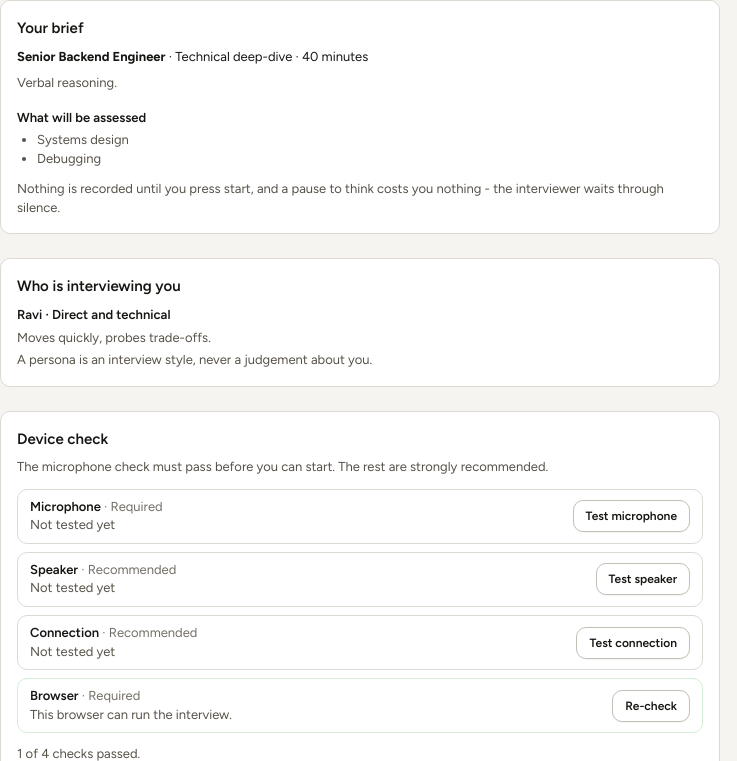
it: starting › a start refusal shows the server's own words and navigates nowhere
Click the button "Test microphone".
click(631, 516)  # box [573,500,690,532]
(page scrolled)
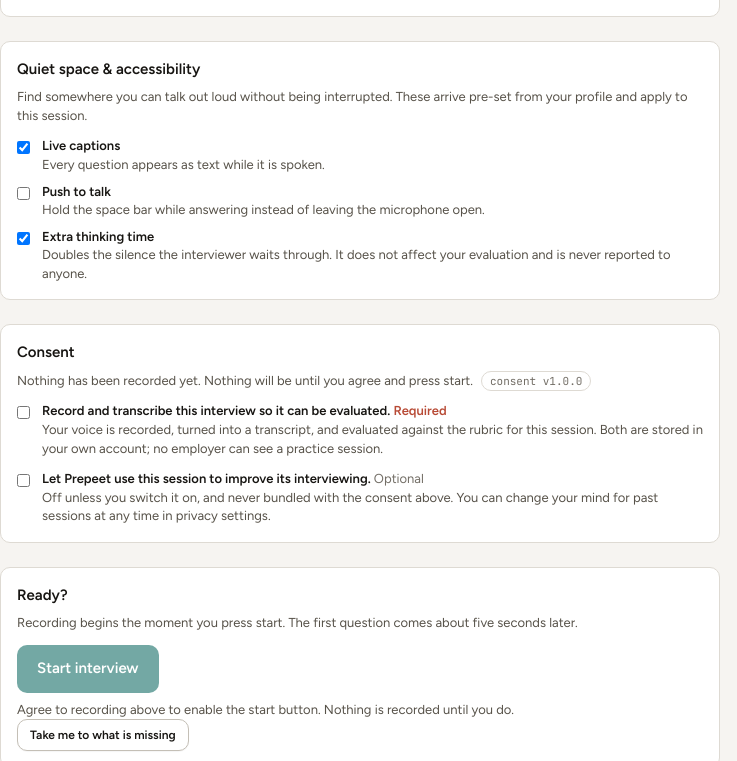
Expected: the text "Agree to recording above" is shown, [17,702,514,717]
Click the checkbox labelled "Record and transcribe".
click(24, 413)  # box [17,406,30,419]
(page scrolled)
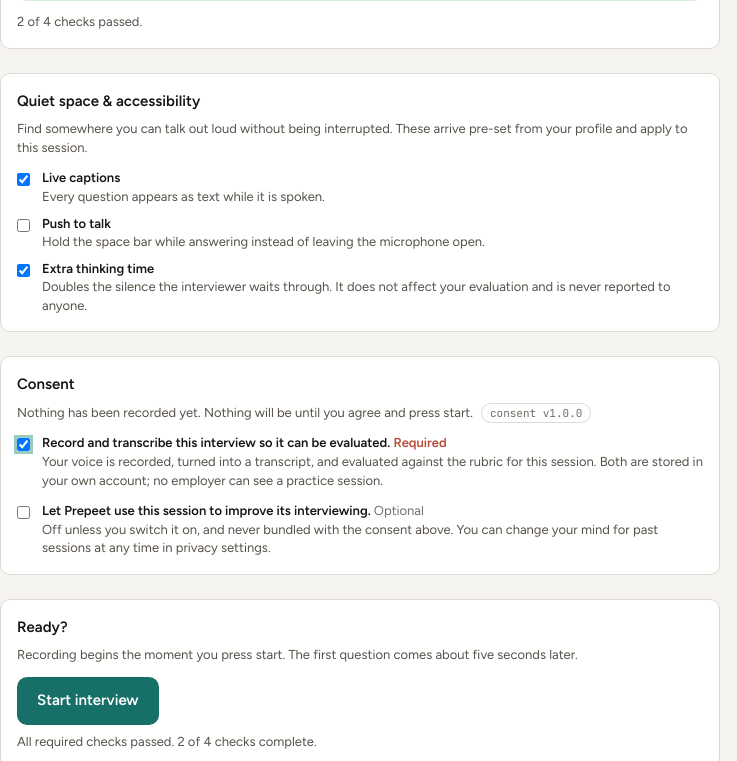
Click the button "Start interview".
click(88, 701)  # box [17,677,159,725]
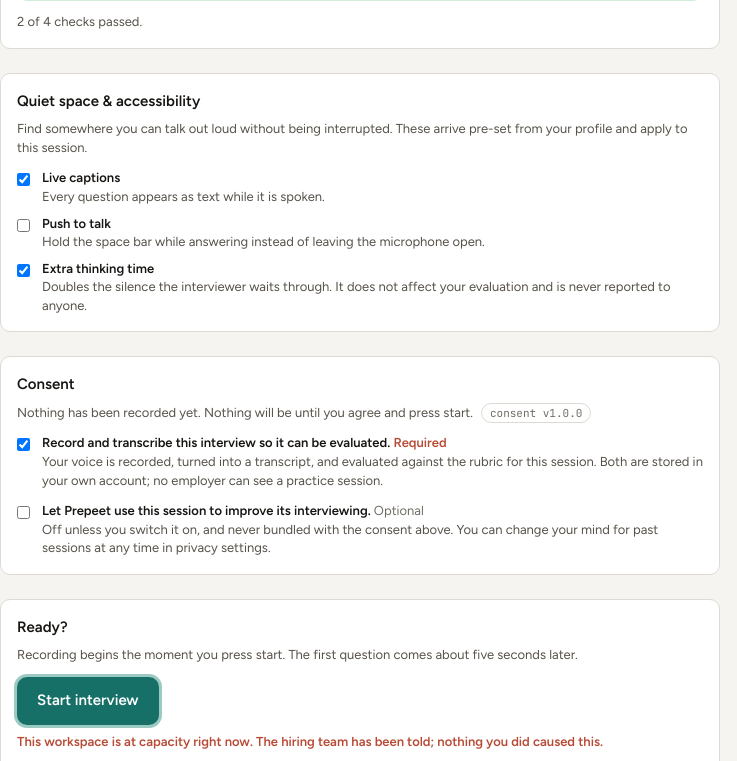
Expected: the 2nd message shows "at capacity", [17,734,603,749]
